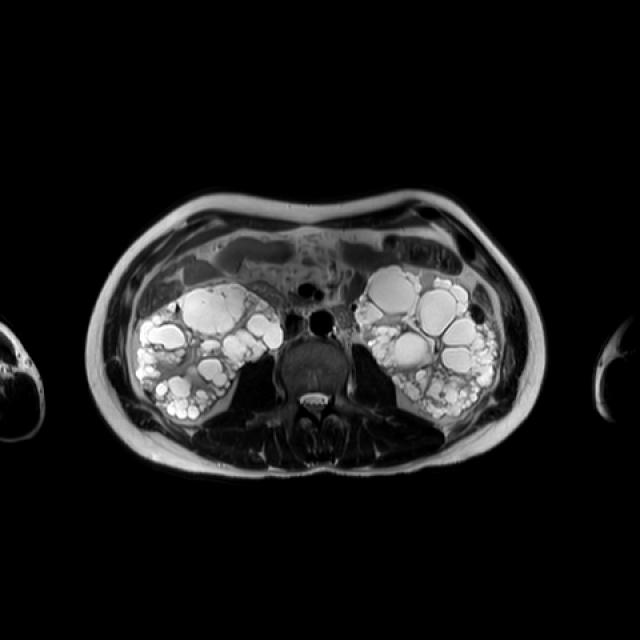sag: (135, 284, 285, 418)
sol: (353, 267, 498, 420)
